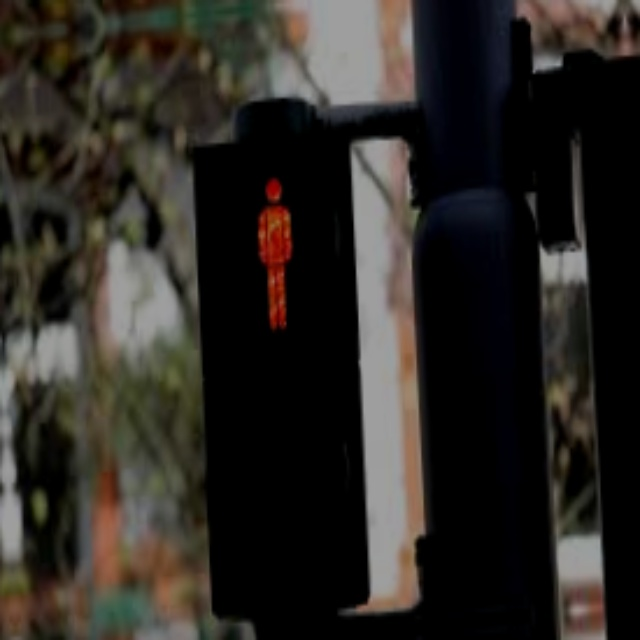red_light: (247, 169, 311, 334)
